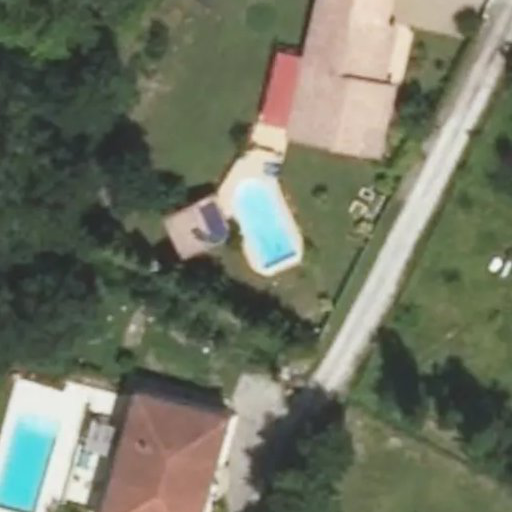pool: (218, 208, 288, 272)
